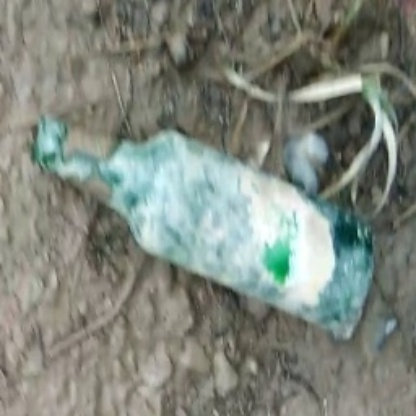bottle: (33, 107, 374, 344)
